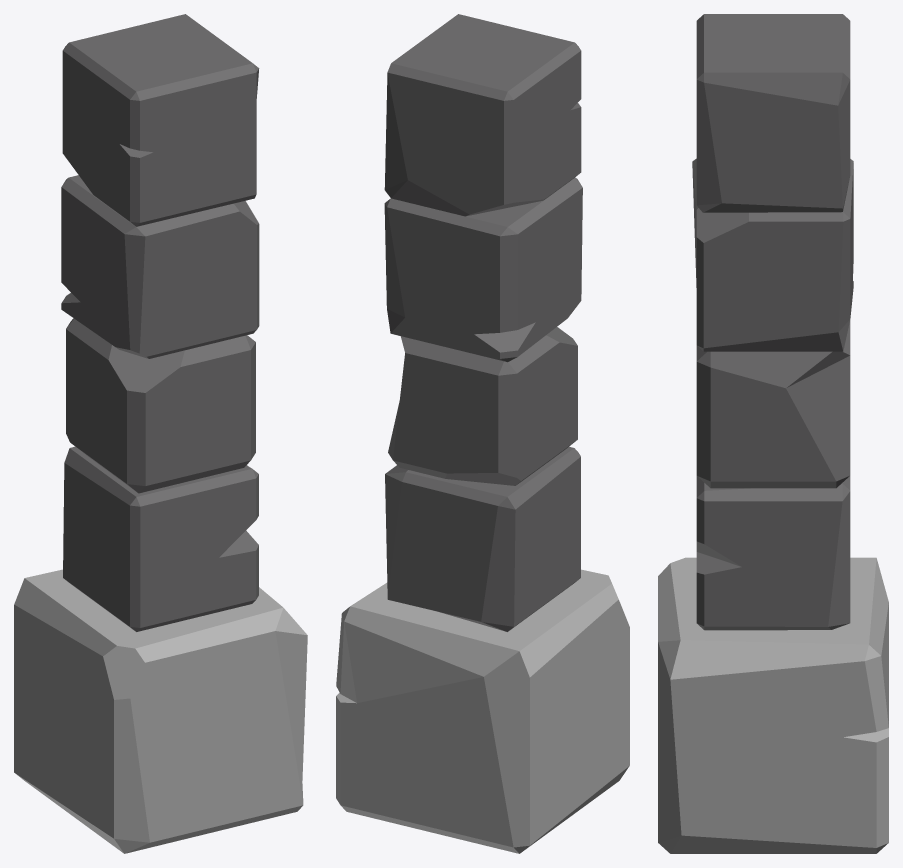
File: Pillar.gltf
3 views of the same model, side by side, from view 1: azimuth 30°, elevation 25°; view 2: azimuth 150°, elevation 25°; view 3: azimuth 270°, elevation 25° (orthographic). The views are drawn at different scales.
Visible parts, largest first — view 1: WallPole; view 2: WallPole; view 3: WallPole.
Part boxes in pixels (box(x1,y1,x2,y2)): WallPole: box(14, 14, 307, 853); WallPole: box(336, 14, 629, 853); WallPole: box(658, 14, 888, 853).
Bounding box in the file's own units: 0.6 × 2.2 × 0.6.
1 material, 1 textured.
